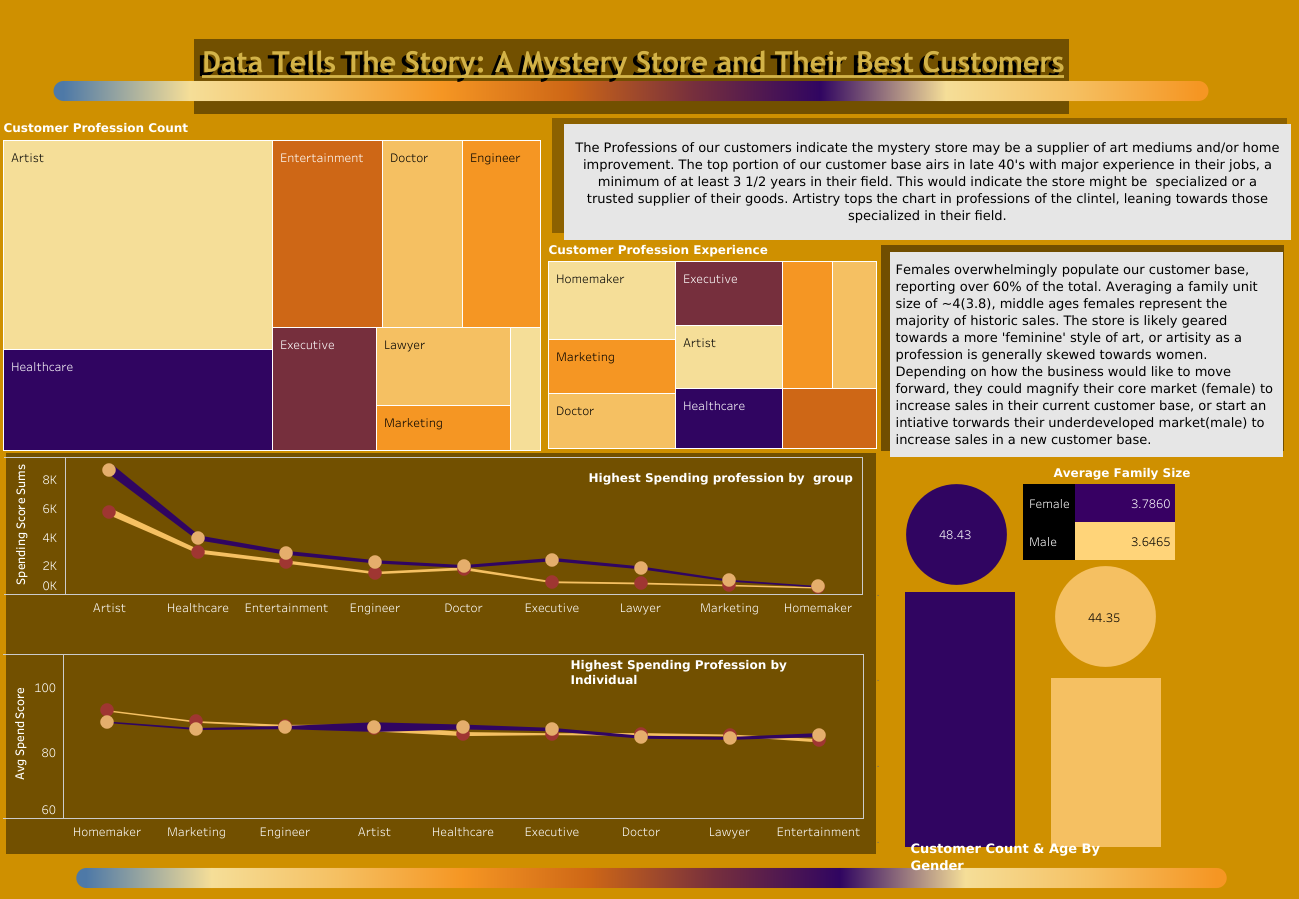

This screenshot's page, from the dashboard's own definition file:
{"tool":"tableau","page":{"name":"Dashboard 1","canvas":[1300,900],"ordinal":0},"visuals":[{"type":"text","box":[195,28,868,74]},{"type":"text","box":[61,35,1145,52]},{"type":"blank","box":[194,39,875,75]},{"type":"worksheet","title":"Sheet 8 (2)","mark":"Line","cols":["profession"],"box":[0,50,1261,104]},{"type":"text","box":[1,112,199,30]},{"type":"blank","box":[552,118,735,115]},{"type":"blank","box":[564,124,727,116]},{"type":"text","box":[571,129,713,105]},{"type":"text","box":[546,234,240,30]},{"type":"blank","box":[881,245,403,206]},{"type":"blank","box":[890,252,393,205]},{"type":"text","box":[893,256,385,197]},{"type":"worksheet","title":"experice work","mark":"Automatic","box":[544,257,371,195]},{"type":"blank","box":[6,453,870,401]},{"type":"worksheet","title":"prfoession score","mark":"Line","rows":["spending score (1-100)","spending score (1-100)"],"cols":["profession"],"box":[4,457,859,193]},{"type":"text","box":[1051,457,179,30]},{"type":"text","box":[586,462,269,30]},{"type":"worksheet","title":"female gender age","mark":"Circle","rows":["age"],"cols":["gender (top_customers.csv)"],"box":[846,481,220,187]},{"type":"worksheet","title":"gender fam","mark":"Square","rows":["gender (top_customers.csv)","gender"],"box":[1023,484,181,107]},{"type":"worksheet","title":"male gender age","mark":"Circle","rows":["age"],"cols":["gender (top_customers.csv)"],"box":[1011,565,188,181]},{"type":"worksheet","title":"gender dif","mark":"Bar","rows":["gender (top_customers.csv)"],"cols":["gender (top_customers.csv)"],"box":[875,579,304,268]},{"type":"worksheet","title":"PORFESSION SCORE AV","mark":"Line","rows":["spending score (1-100)","spending score (1-100)"],"cols":["profession"],"box":[3,654,861,196]},{"type":"text","box":[568,657,289,30]},{"type":"text","box":[908,833,245,47]}]}

Visuals, with their boxes in screenshot pixels (x1, y1, x2, y2), scaled from the page's 1300x900 canvas onto the 1299x899 screenshot:
text: bbox(195, 28, 1062, 102)
text: bbox(61, 35, 1205, 87)
blank: bbox(194, 39, 1068, 114)
"Sheet 8 (2)" worksheet (Line marks): bbox(0, 50, 1260, 154)
text: bbox(1, 112, 200, 142)
blank: bbox(552, 118, 1286, 233)
blank: bbox(564, 124, 1290, 240)
text: bbox(571, 129, 1283, 234)
text: bbox(546, 234, 785, 264)
blank: bbox(880, 245, 1283, 450)
blank: bbox(889, 252, 1282, 456)
text: bbox(892, 256, 1277, 452)
"experice work" worksheet: bbox(544, 257, 914, 451)
blank: bbox(6, 452, 875, 853)
"prfoession score" worksheet (Line marks): bbox(4, 456, 862, 649)
text: bbox(1050, 456, 1229, 486)
text: bbox(586, 461, 854, 491)
"female gender age" worksheet (Circle marks): bbox(845, 480, 1065, 667)
"gender fam" worksheet (Square marks): bbox(1022, 483, 1203, 590)
"male gender age" worksheet (Circle marks): bbox(1010, 564, 1198, 745)
"gender dif" worksheet (Bar marks): bbox(874, 578, 1178, 846)
"PORFESSION SCORE AV" worksheet (Line marks): bbox(3, 653, 863, 849)
text: bbox(568, 656, 856, 686)
text: bbox(907, 832, 1152, 879)
